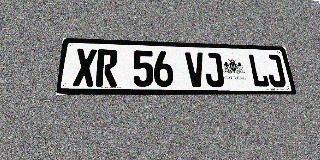5: (133, 50, 154, 87)
6: (153, 51, 174, 87)
J: (203, 52, 225, 87), (264, 54, 287, 87)
L: (247, 54, 270, 87)
R: (96, 49, 118, 87)
V: (185, 52, 206, 87)
X: (73, 48, 97, 87)
